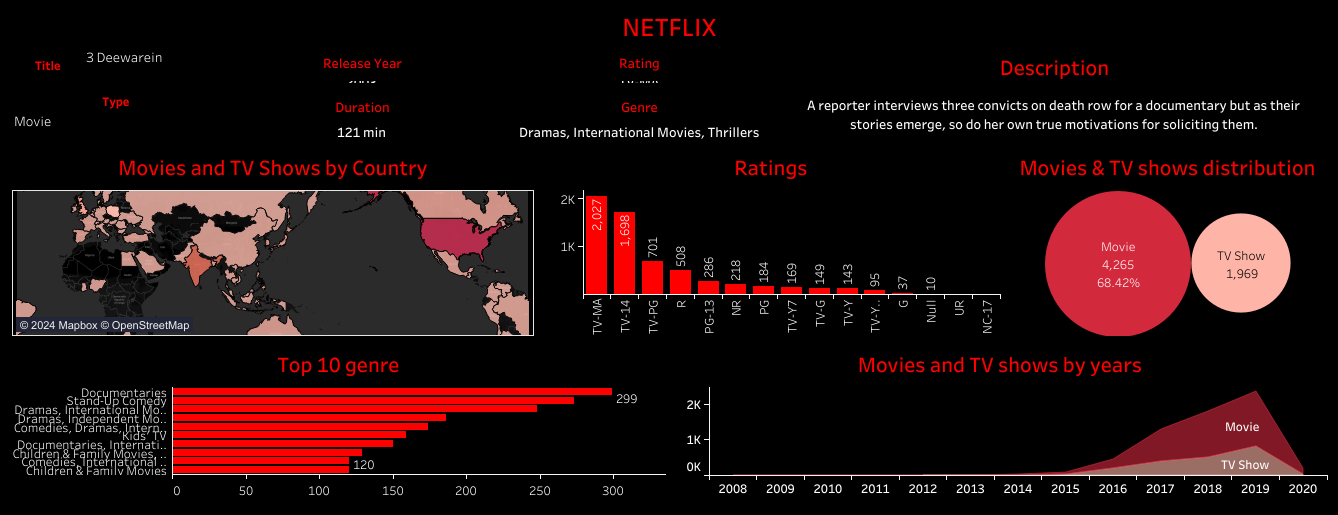

Layout of this report page (visuals, bound fields, positions):
{"tool":"tableau","page":{"name":"Dashboard 1","canvas":[1000,1000],"units":"permille","ordinal":0},"visuals":[{"type":"title","box":[6,13.3,988.1,58.1]},{"type":"filter","title":"Description","param":"[federated.0nt3yvl1e87bsi178sk6509lcqux].[none:title:nk]","box":[6,71.4,161.5,85.9]},{"type":"worksheet","title":"Release Year","mark":"Automatic","box":[167.5,71.4,206.6,86.4]},{"type":"worksheet","title":"Rating","mark":"Automatic","box":[374.1,71.4,206.6,86.4]},{"type":"worksheet","title":"Description","mark":"Automatic","box":[580.7,71.4,413.3,196]},{"type":"filter","title":"Description","param":"[federated.0nt3yvl1e87bsi178sk6509lcqux].[none:type:nk]","box":[6,157.3,161.5,110.1]},{"type":"worksheet","title":"Duration","mark":"Automatic","box":[167.5,157.8,206.6,109.6]},{"type":"worksheet","title":"Genre","mark":"Automatic","box":[374.1,157.8,206.6,109.6]},{"type":"worksheet","title":"Movies and TV Shows by Country","mark":"Multipolygon","box":[6,267.4,395.6,389.5]},{"type":"worksheet","title":"Ratings","mark":"Automatic","rows":["show_id"],"cols":["rating"],"box":[401.5,267.4,348.5,389.5]},{"type":"worksheet","title":"Movies & TV shows distribution ","mark":"Circle","box":[750,267.4,244,389.5]},{"type":"worksheet","title":"Top 10 genre","mark":"Automatic","rows":["listed_in"],"cols":["show_id"],"box":[6,657,494,329.7]},{"type":"worksheet","title":"Total_by_years","mark":"Area","rows":["show_id"],"cols":["date_added"],"box":[500,657,494.1,329.7]}]}

Visuals, with their boxes on the dashboard's canvas, which has no fixed pixel size, in thousandths of its width and height (x1, y1, x2, y2). These are canvas units, not pixel positions in the 1338x515 screenshot, which may show the page scaled, cropped or inside an application window:
title: bbox(6, 13, 994, 71)
"Description" filter: bbox(6, 71, 168, 157)
"Release Year" worksheet: bbox(168, 71, 374, 158)
"Rating" worksheet: bbox(374, 71, 581, 158)
"Description" worksheet: bbox(581, 71, 994, 267)
"Description" filter: bbox(6, 157, 168, 267)
"Duration" worksheet: bbox(168, 158, 374, 267)
"Genre" worksheet: bbox(374, 158, 581, 267)
"Movies and TV Shows by Country" worksheet (Multipolygon marks): bbox(6, 267, 402, 657)
"Ratings" worksheet: bbox(402, 267, 750, 657)
"Movies & TV shows distribution " worksheet (Circle marks): bbox(750, 267, 994, 657)
"Top 10 genre" worksheet: bbox(6, 657, 500, 987)
"Total_by_years" worksheet (Area marks): bbox(500, 657, 994, 987)
